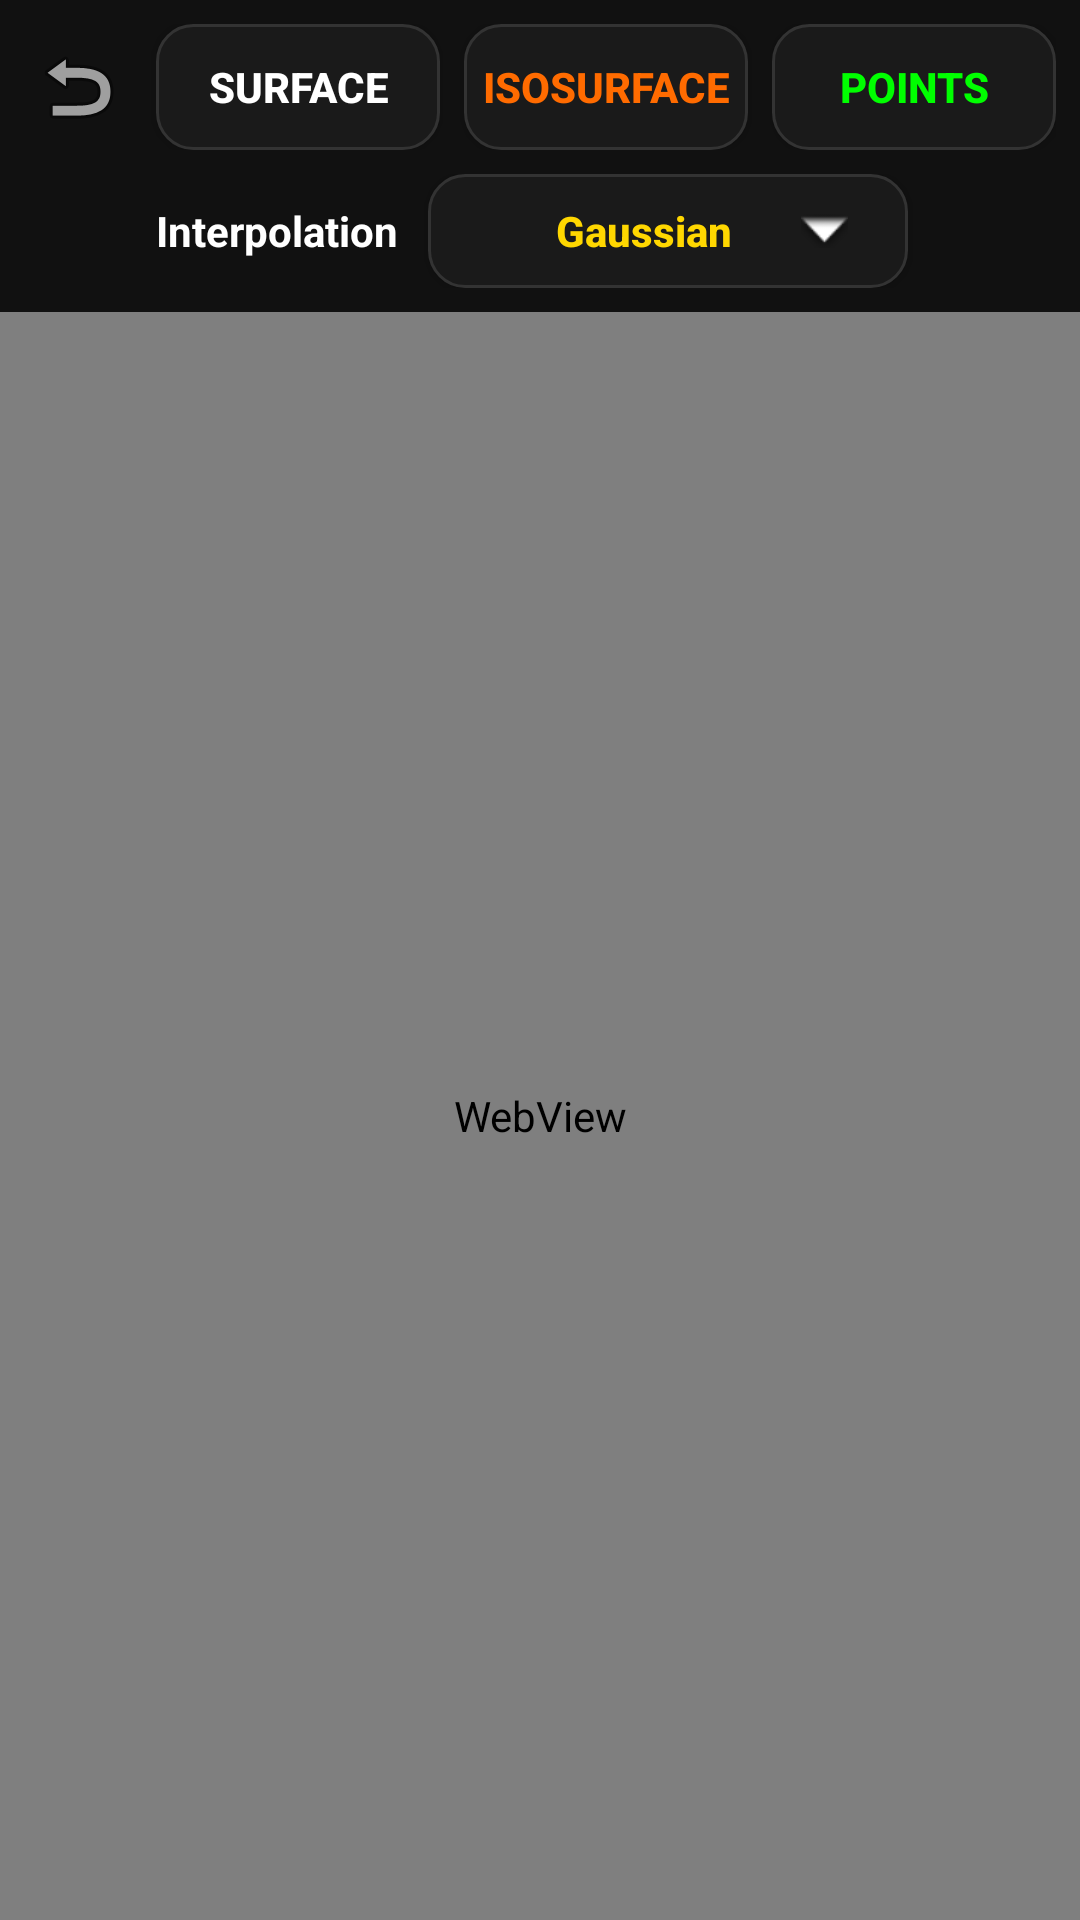

Locate icon controls on the screen. Image size 1080 × 1920, boxes as detection(x1, y1, x2, y2).
revert: detection(48, 59, 111, 116)
